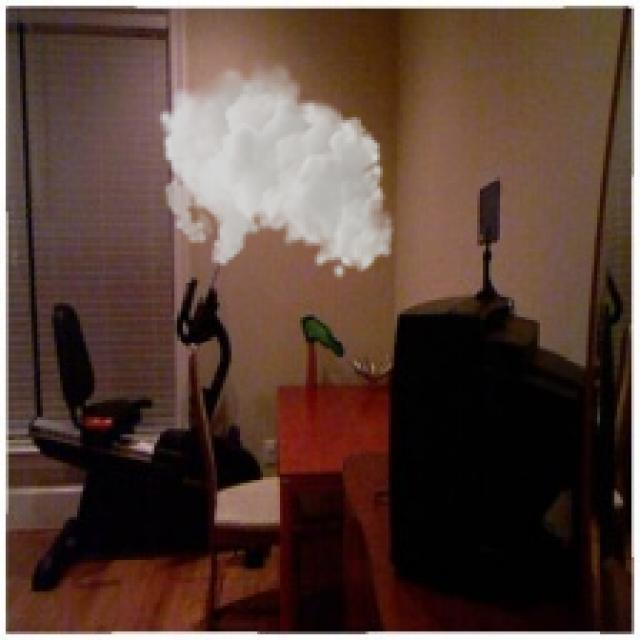smoke: (157, 57, 394, 280)
